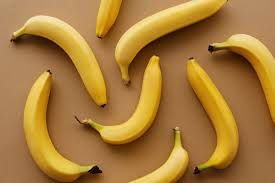banana: (114, 1, 229, 86), (21, 69, 104, 183), (11, 15, 108, 107), (74, 55, 163, 146), (186, 54, 239, 177)
